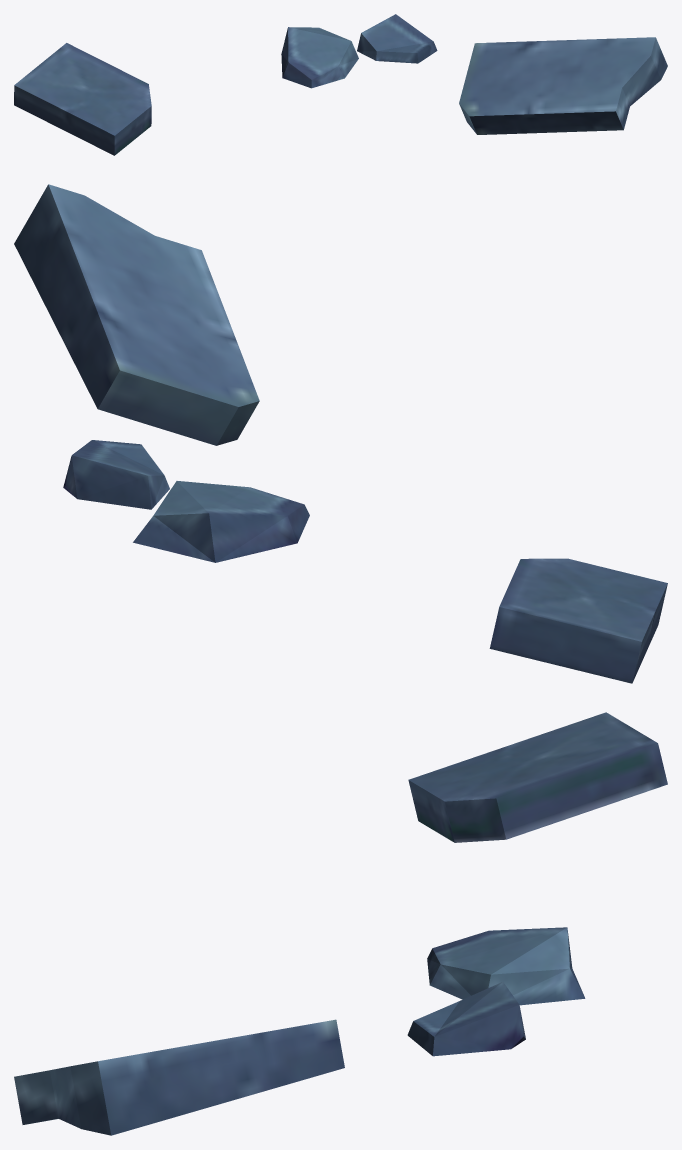
The model's file is Area08_27.fbx.
3 renders of one model, top to bottom at view 1: azimuth 30°, elevation 25°; view 2: azimuth 150°, elevation 25°; view 3: azimuth 270°, elevation 25°, orthographic. The views are drawn at different scales.
Visible parts, largest first — view 1: Area08_27; view 2: Area08_27; view 3: Area08_27.
Boxes of the visible parts, x1,y1,x2,y2 form: Area08_27: [14, 14, 667, 155]; Area08_27: [14, 184, 667, 683]; Area08_27: [14, 712, 667, 1135].
Size of the model in its own units: 922 by 152 by 600.
1 material, 1 textured.
